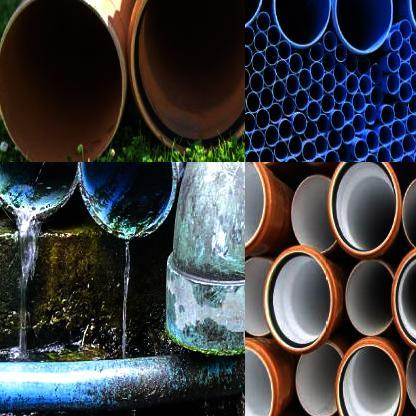pipe: (0, 0, 126, 162), (128, 0, 245, 153), (78, 162, 177, 239), (263, 250, 334, 354), (328, 162, 400, 260), (335, 342, 404, 416), (0, 162, 82, 221), (290, 173, 338, 254), (345, 258, 393, 336), (294, 340, 343, 416), (334, 0, 393, 54), (273, 0, 330, 48), (391, 245, 416, 352), (245, 343, 278, 416), (245, 258, 274, 336), (245, 162, 266, 254), (402, 174, 416, 248), (306, 101, 322, 121), (341, 124, 356, 145), (327, 129, 342, 150), (250, 130, 265, 151), (302, 141, 317, 162), (398, 40, 412, 62), (272, 80, 286, 102), (256, 108, 270, 130), (293, 113, 307, 135), (352, 114, 366, 136), (264, 126, 278, 148), (314, 134, 328, 156), (288, 135, 302, 157), (256, 11, 271, 31), (277, 40, 292, 60), (251, 52, 266, 72), (275, 60, 290, 80), (398, 62, 413, 82), (267, 25, 281, 46), (388, 30, 402, 51), (288, 53, 302, 74), (250, 72, 264, 93), (386, 73, 400, 94), (370, 86, 384, 107), (352, 92, 366, 113), (282, 96, 296, 117), (331, 109, 345, 130), (278, 119, 292, 140), (378, 125, 392, 146), (274, 141, 288, 162), (286, 74, 299, 96), (366, 130, 379, 152), (390, 140, 403, 162), (254, 32, 268, 52), (310, 62, 324, 82), (322, 73, 336, 93), (399, 82, 413, 102), (246, 92, 260, 112), (381, 105, 395, 125), (316, 114, 330, 134), (391, 120, 405, 140), (354, 140, 368, 160), (299, 68, 312, 89), (269, 103, 282, 124), (399, 19, 412, 39), (357, 55, 370, 75), (263, 66, 276, 86), (359, 75, 372, 95), (260, 88, 273, 108), (264, 46, 278, 64), (309, 82, 323, 100), (321, 94, 335, 112), (394, 102, 408, 120), (364, 104, 376, 125), (304, 122, 318, 140), (402, 135, 416, 153), (387, 52, 400, 71), (334, 85, 347, 104), (346, 53, 358, 73), (370, 64, 382, 84), (346, 74, 358, 94), (296, 90, 308, 110), (310, 44, 324, 61), (323, 52, 334, 73), (335, 63, 346, 84), (405, 113, 416, 134), (342, 102, 353, 122), (245, 112, 255, 134), (377, 146, 390, 162), (260, 148, 274, 162), (245, 26, 254, 46), (325, 150, 339, 162), (408, 94, 416, 114), (245, 151, 259, 162), (245, 46, 252, 67), (409, 72, 416, 93), (409, 32, 416, 51), (245, 68, 250, 91), (401, 154, 415, 162), (245, 132, 250, 154), (410, 54, 416, 72), (365, 154, 378, 162), (312, 157, 326, 162)
